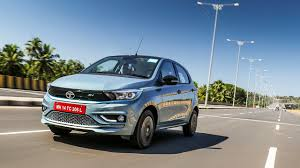Tiago: (33, 51, 204, 151)
